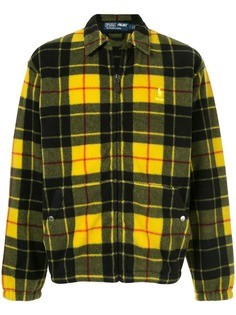squared: (1, 13, 233, 303)
